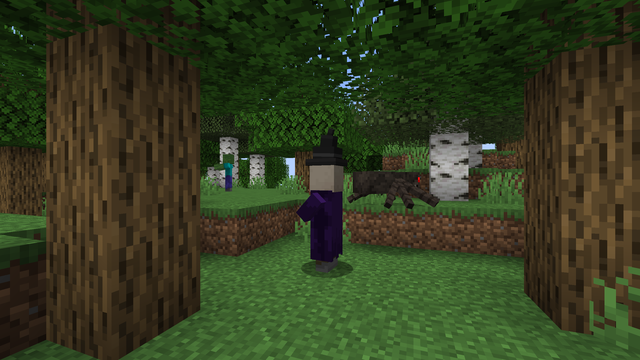araignees: (357, 166, 423, 208)
sorcieres: (305, 160, 346, 275)
zombies: (220, 154, 236, 190)
